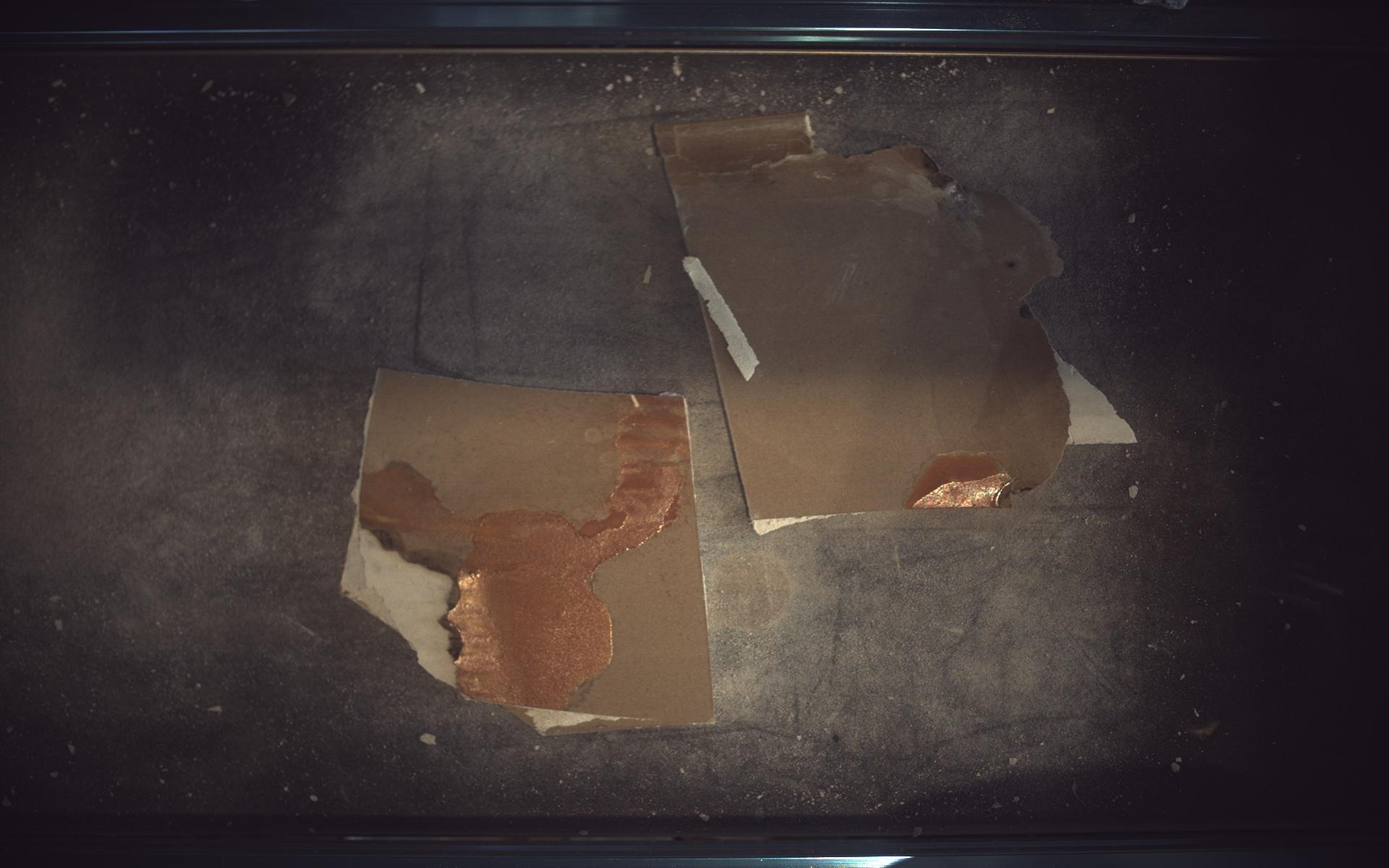gypsum_board: (655, 112, 1139, 533), (341, 370, 714, 733)
